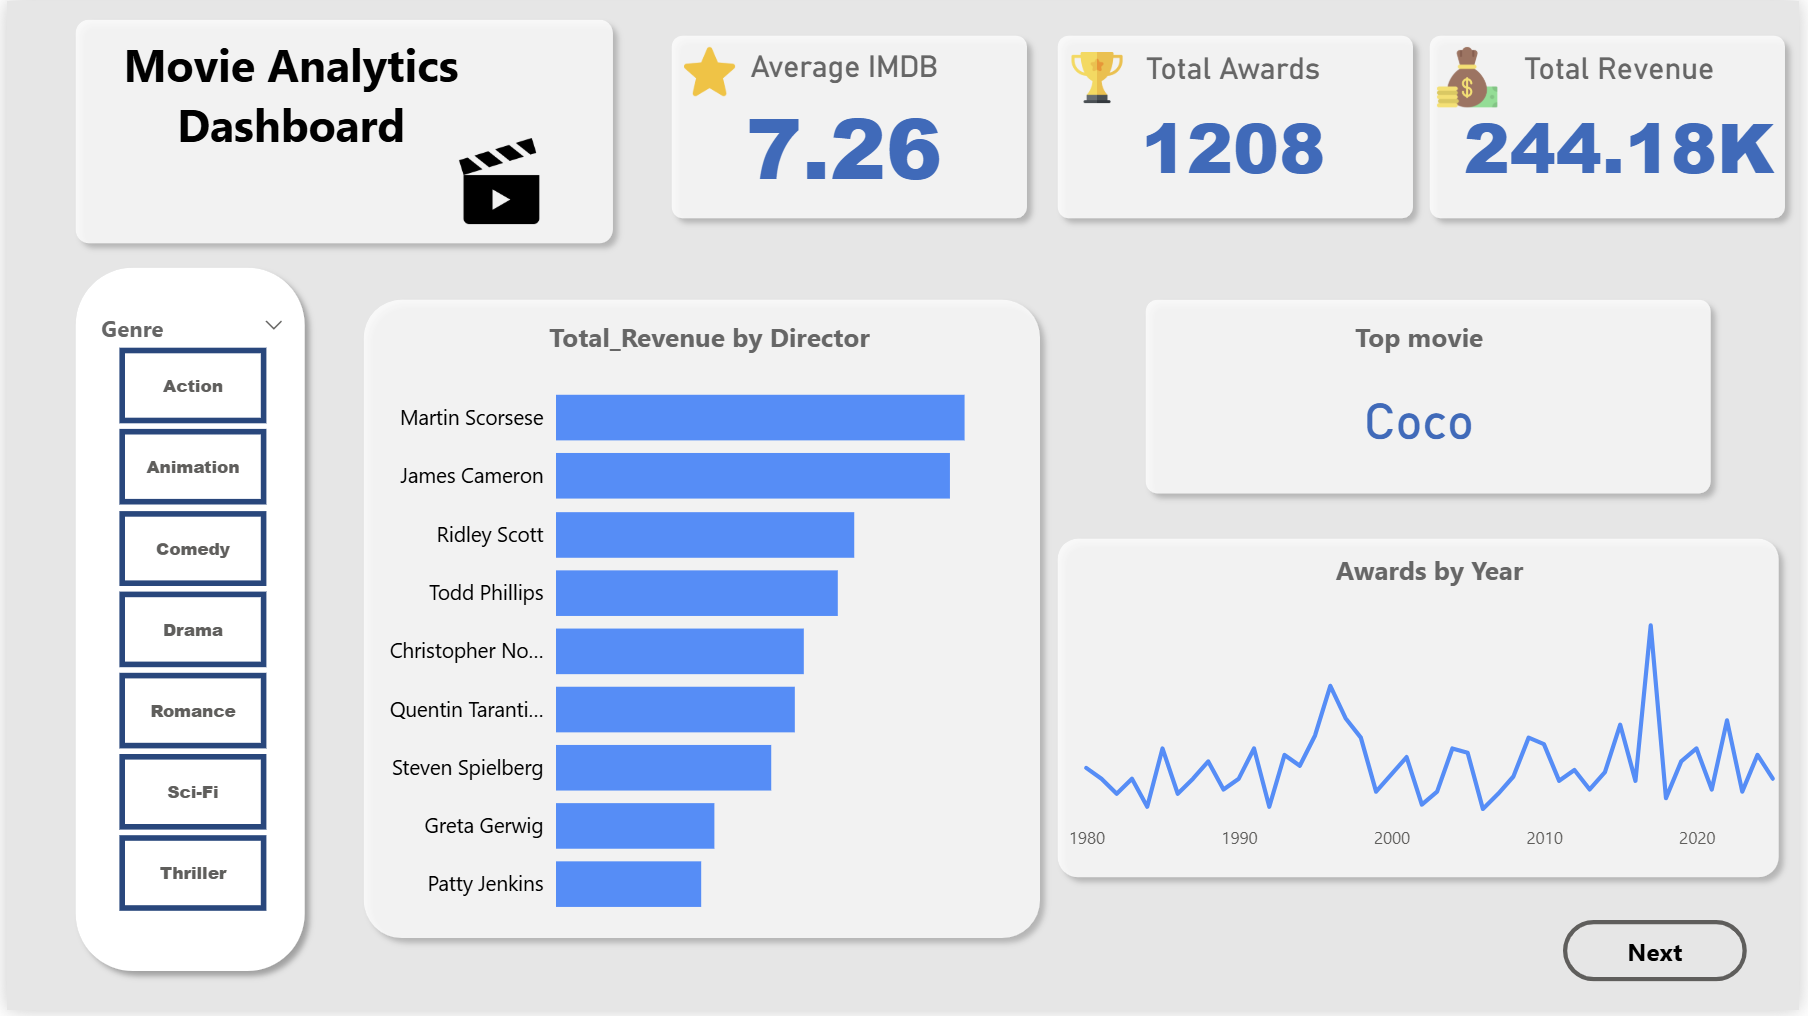

The page's visual inventory and layout, read from the dashboard file:
{"tool":"powerbi","page":{"name":"Overview","canvas":[1280,720],"ordinal":0},"visuals":[{"type":"shape","box":[39.8,181.7,181.7,519.8],"z":1000},{"type":"shape","box":[39.8,4,401.8,177.7],"z":2000},{"type":"shape","box":[465.4,15.9,271.8,148.5],"z":3000},{"type":"shape","box":[1007.7,15.9,271.8,148.5],"z":4000},{"type":"shape","box":[245.3,204.2,501.2,473.4],"z":5000},{"type":"shape","box":[741.2,373.9,533,259.9],"z":6000},{"type":"textbox","box":[54.4,18.6,297,124.6],"z":7000},{"type":"image","box":[314.3,92.8,74.3,71.6],"z":8000},{"type":"card","title":"Average IMDB","fields":{"Values":["Movies.Average_IMDb"]},"box":[478.7,34.5,238.7,108.7],"z":9000},{"type":"card","title":"Total Revenue","fields":{"Values":["Movies.Total_Revenue"]},"box":[1022.3,35.8,257.2,108.7],"z":10000},{"type":"barChart","fields":{"Category":["Movies.Director"],"Y":["Movies.Total_Revenue"]},"box":[257.2,226.7,489.3,441.5],"z":11000},{"type":"lineChart","title":"Awards by Year","fields":{"Category":["Movies.Year"],"Y":["Sum(Movies.Awards)"]},"box":[753.1,392.5,526.4,222.8],"z":12000},{"type":"slicer","fields":{"Values":["Movies.Genre"]},"box":[54.4,217.5,155.1,438.9],"z":14000},{"type":"shape","box":[741.2,15.9,271.8,148.5],"z":15000},{"type":"card","title":"Total Awards","fields":{"Values":["Movies.total_awards"]},"box":[746.5,35.8,257.2,108.7],"z":16000},{"type":"shape","box":[804.9,204.2,421.7,156.5],"z":16500},{"type":"card","title":"Top movie","fields":{"Values":["Movies.Top Movie"]},"box":[853.9,226.7,309,115.4],"z":17000},{"type":"actionButton","box":[1111.2,655,131.3,43.8],"z":17001},{"type":"image","box":[478.7,26.5,46.4,46.4],"z":17002},{"type":"image","box":[753.1,31.8,51.7,46.4],"z":17003},{"type":"image","box":[1015.7,26.5,54.4,54.4],"z":17004}]}

Visuals, with their boxes in screenshot pixels (x1, y1, x2, y2), scaled from the page's 1280x720 canvas onto the 1808x1016 screenshot:
shape: 56:256:313:990
shape: 56:6:624:256
shape: 657:22:1041:232
shape: 1423:22:1807:232
shape: 346:288:1054:956
shape: 1047:528:1800:894
textbox: 77:26:496:202
image: 444:131:549:232
"Average IMDB" card: 676:49:1013:202
"Total Revenue" card: 1444:51:1807:204
barChart - Movies.Director x Movies.Total_Revenue: 363:320:1054:943
"Awards by Year" lineChart: 1064:554:1807:868
slicer - Movies.Genre: 77:307:296:926
shape: 1047:22:1431:232
"Total Awards" card: 1054:51:1418:204
shape: 1137:288:1733:509
"Top movie" card: 1206:320:1643:483
actionButton: 1570:924:1755:986
image: 676:37:742:103
image: 1064:45:1137:110
image: 1435:37:1512:114
